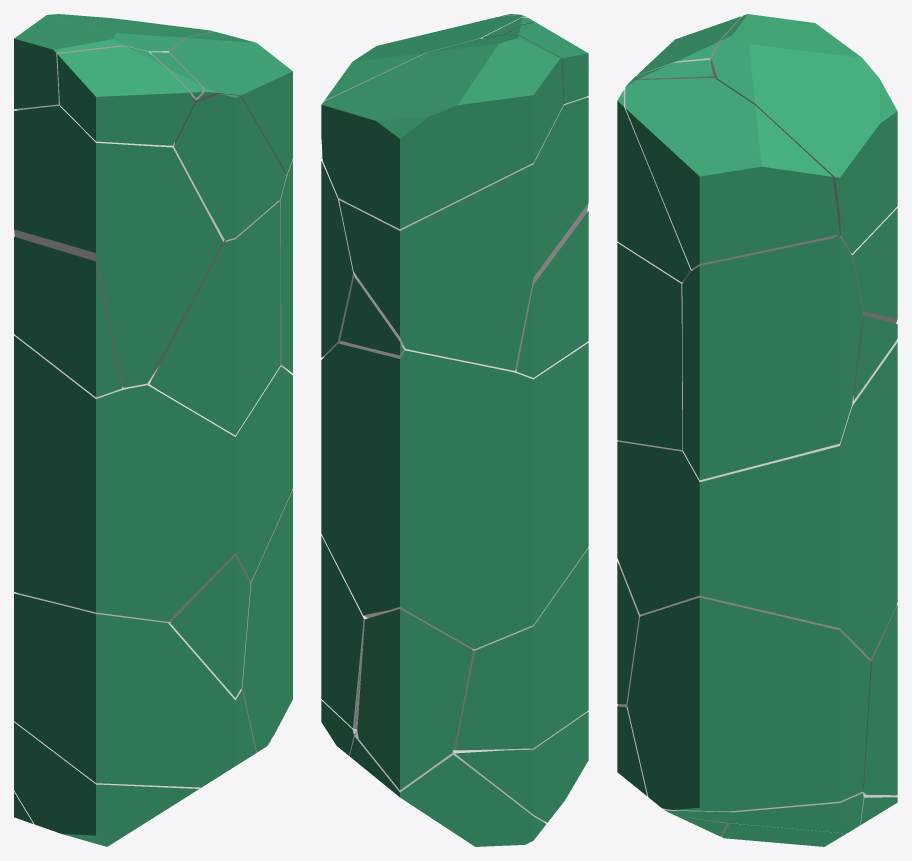
Rendered from hexB5.fbx.
The picture shows the model from 3 angles, left to right: view 1: azimuth 30°, elevation 25°; view 2: azimuth 150°, elevation 25°; view 3: azimuth 270°, elevation 25°; orthographic projection. The views are drawn at different scales.
Parts seen in each view (by area): view 1: Cr_Hex_CB_Cracked_M.002; view 2: Cr_Hex_CB_Cracked_M.002; view 3: Cr_Hex_CB_Cracked_M.002.
Boxes of the visible parts, bbox=[...] form: Cr_Hex_CB_Cracked_M.002: bbox=[14, 14, 292, 846]; Cr_Hex_CB_Cracked_M.002: bbox=[321, 14, 588, 846]; Cr_Hex_CB_Cracked_M.002: bbox=[617, 14, 897, 846].
Size of the model in its own units: 0.0298 by 0.1027 by 0.0325.
